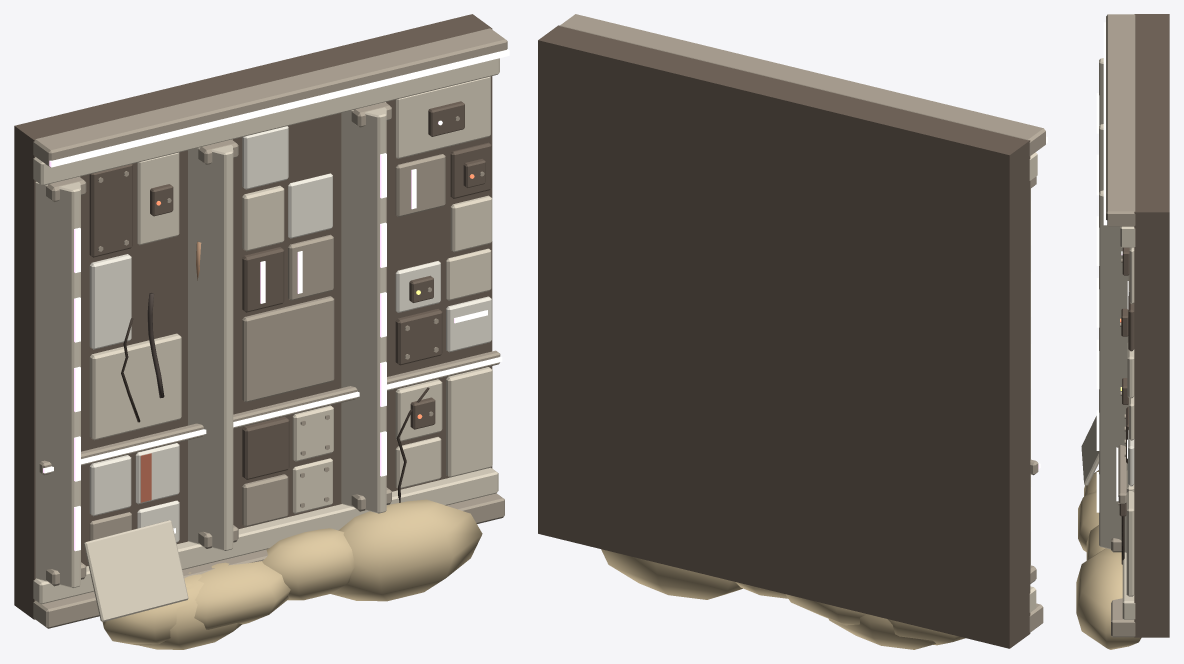
The model's file is wall_du_rib2.glb.
The picture shows the model from 3 angles, left to right: view 1: azimuth 30°, elevation 25°; view 2: azimuth 150°, elevation 25°; view 3: azimuth 270°, elevation 25°; orthographic projection. The views are drawn at different scales.
Visible parts, largest first — view 1: wall_du_rib2; view 2: wall_du_rib2; view 3: wall_du_rib2.
Part boxes in pixels (left/top/right/bottom): wall_du_rib2: left=14, top=14, right=509, bottom=649; wall_du_rib2: left=538, top=14, right=1047, bottom=649; wall_du_rib2: left=1076, top=14, right=1169, bottom=649.
Size of the model in its own units: 4.01 by 4.44 by 0.7928.
